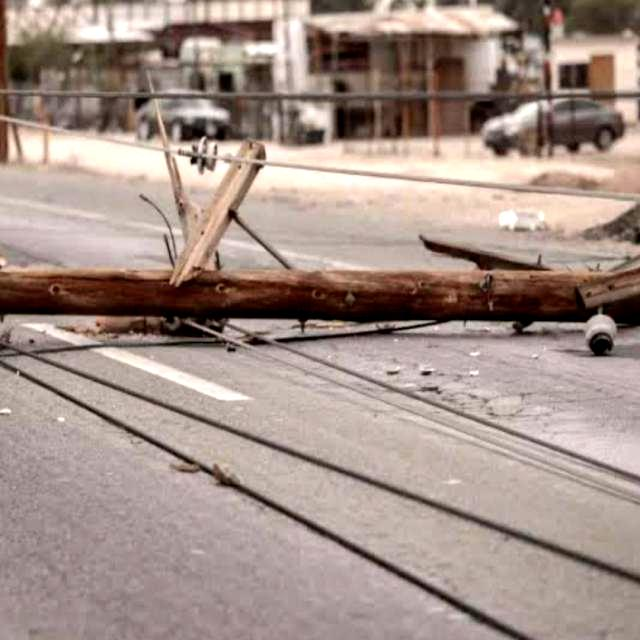Broken Pole: (0, 79, 639, 383)
